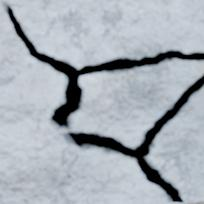brick: (0, 7, 203, 203), (7, 0, 203, 67), (147, 88, 203, 202)
crack: (0, 0, 203, 130), (61, 73, 203, 203)
